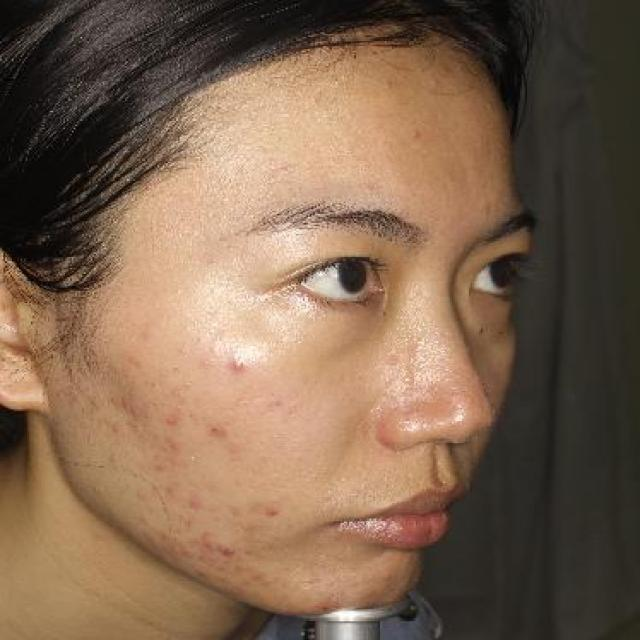dark spot: (159, 408, 188, 429), (178, 492, 209, 510), (120, 403, 144, 423)
papules: (264, 501, 286, 517)
pustules: (222, 351, 255, 375), (210, 541, 240, 557)
